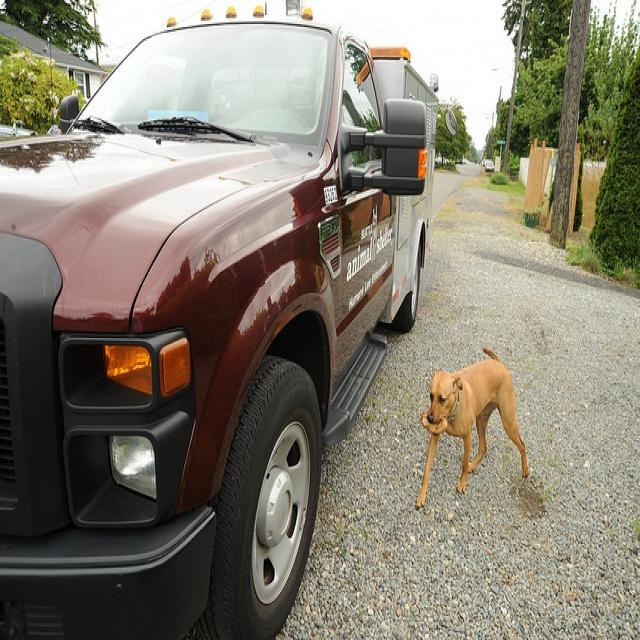car: (0, 0, 455, 638), (483, 158, 494, 170)
dog: (413, 344, 528, 508)
